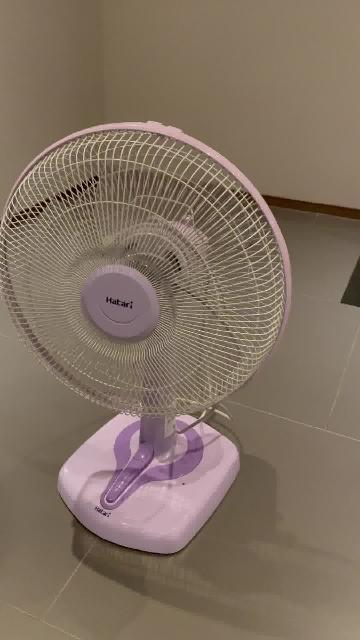Fan: (0, 122, 292, 559)
